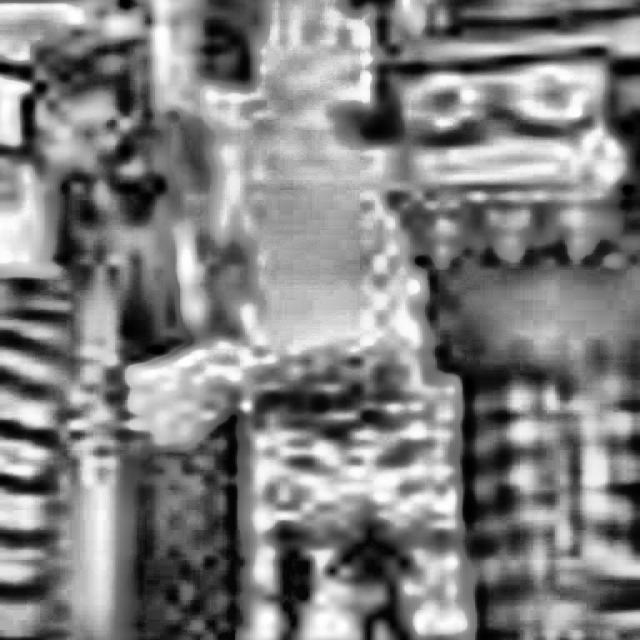dump_truck: (363, 0, 640, 640), (0, 0, 275, 640)
